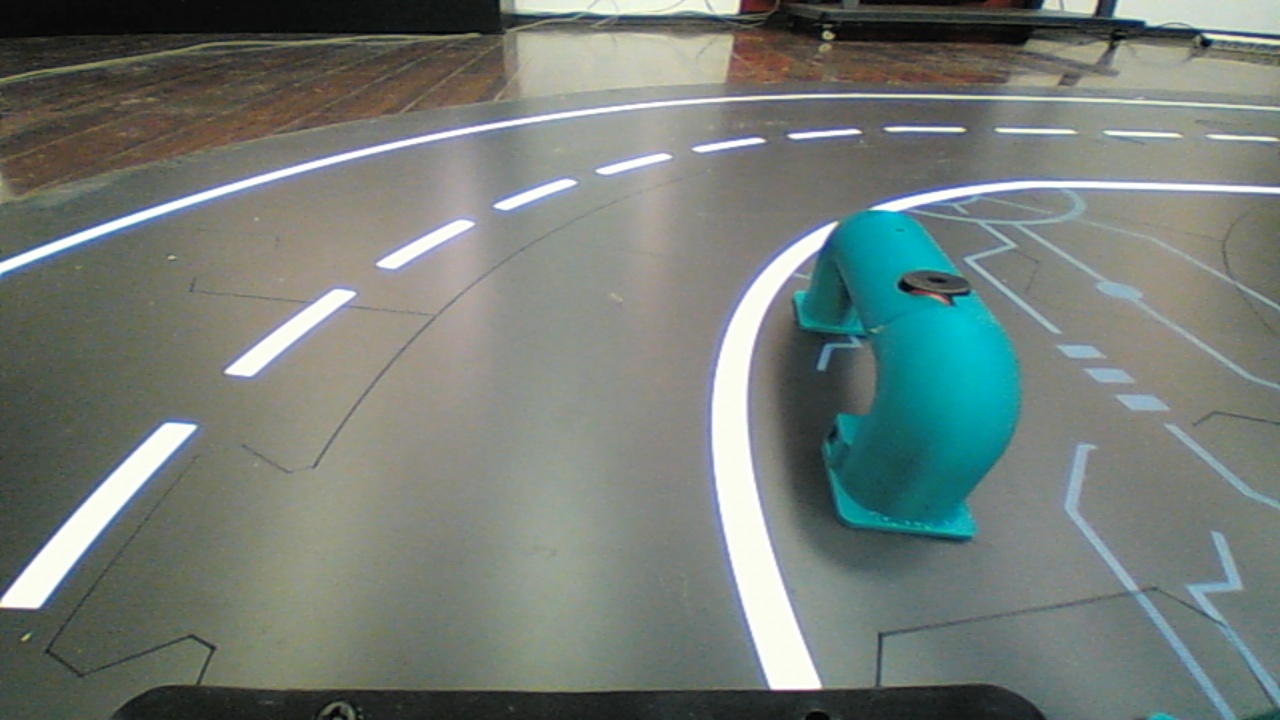Pedestrian crossing: (775, 179, 1047, 545)
